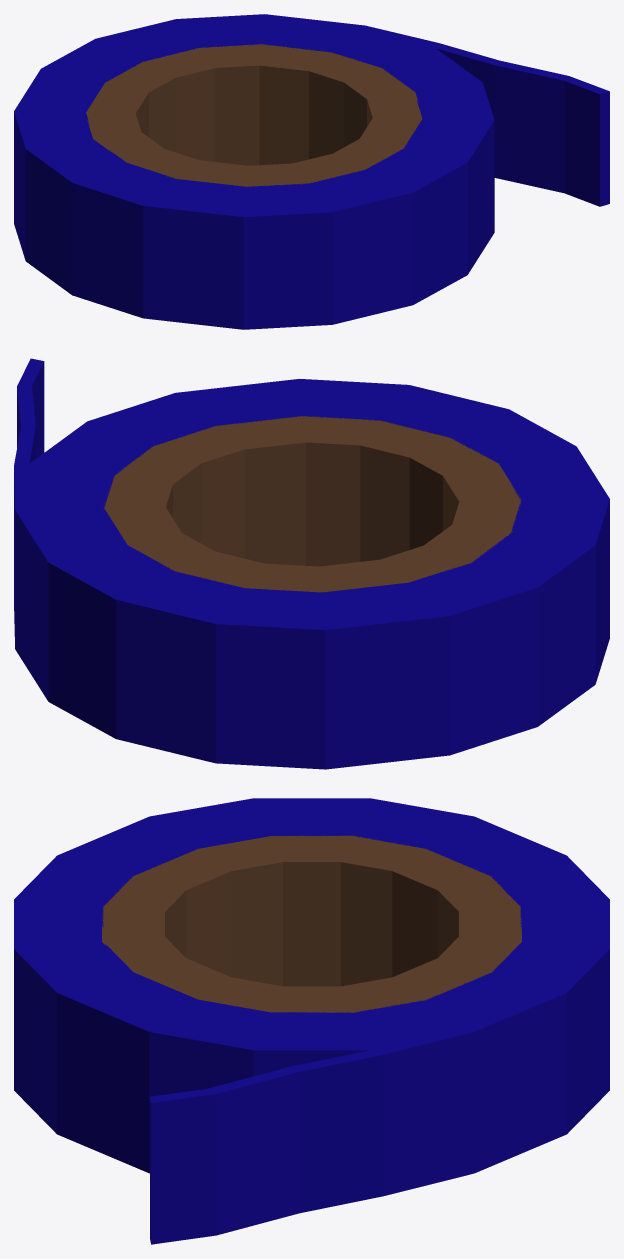
File: Синяя изолента.fbx
The picture shows the model from 3 angles, top to bottom: view 1: azimuth 30°, elevation 25°; view 2: azimuth 150°, elevation 25°; view 3: azimuth 270°, elevation 25°; orthographic projection. The views are drawn at different scales.
Visible parts, largest first — view 1: Куб.001; view 2: Куб.001; view 3: Куб.001.
Boxes of the visible parts, left/top/right/bottom form: Куб.001: left=14, top=14, right=609, bottom=329; Куб.001: left=14, top=358, right=609, bottom=769; Куб.001: left=14, top=798, right=609, bottom=1244.
Bounding box in the file's own units: 207 × 44.91 × 171.
